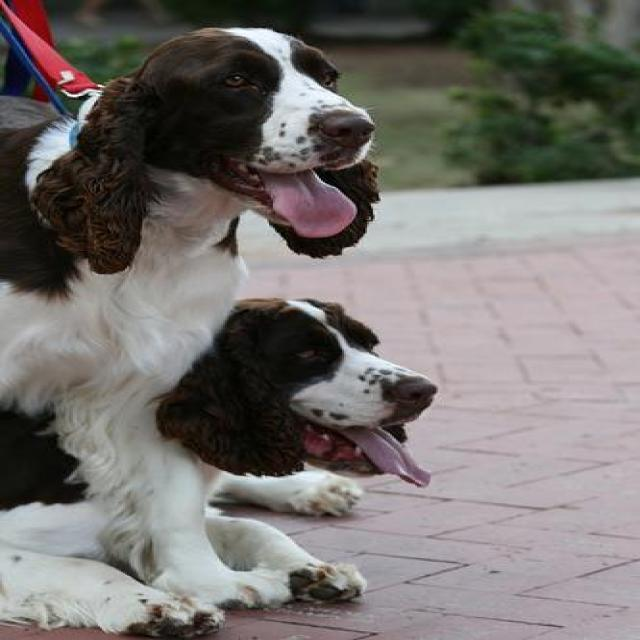happy: (26, 22, 417, 270), (110, 277, 467, 517)
